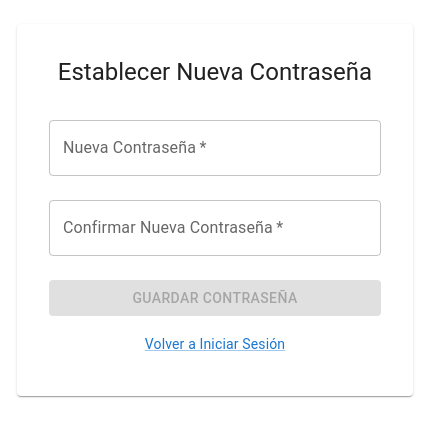
Test: ResetPasswordPage › debería mostrar un error si las contraseñas no coinciden
The width and height of the screenshot is (431, 427).
In the password field with id "newPassword": [215, 148] box [49,120,381,176], type "password123"
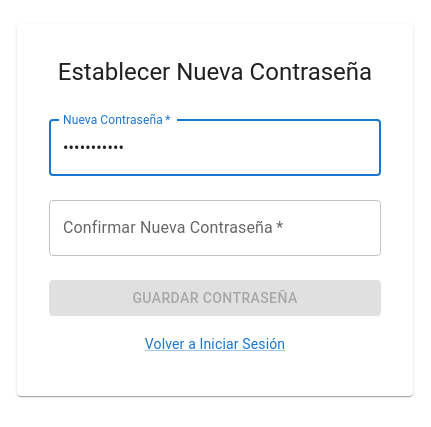
In the password field with id "confirmPassword": [215, 228] box [49,200,381,256], type "password456"
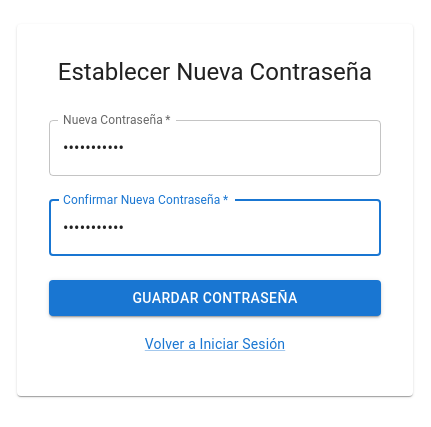
Result: the button "Guardar Contraseña" is enabled
Esperar a que se active la validación al hacer click en submit
Click the button "Guardar Contraseña": [215, 298] box [49,280,381,316]
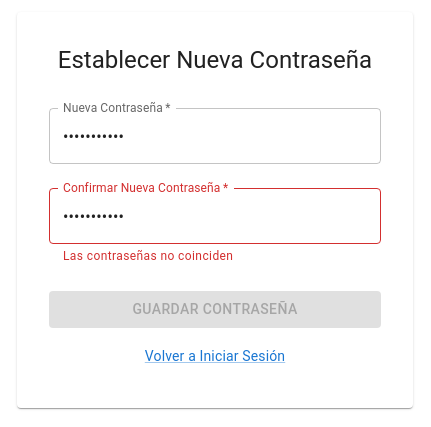
Result: the text "Las contraseñas no coinciden" is shown at [63,249,233,263]
